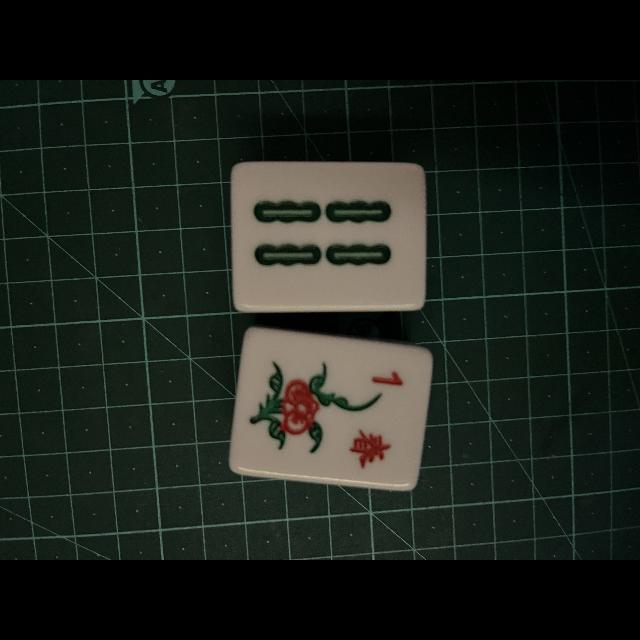b4: (234, 163, 421, 307)
s1: (343, 336, 422, 482)
